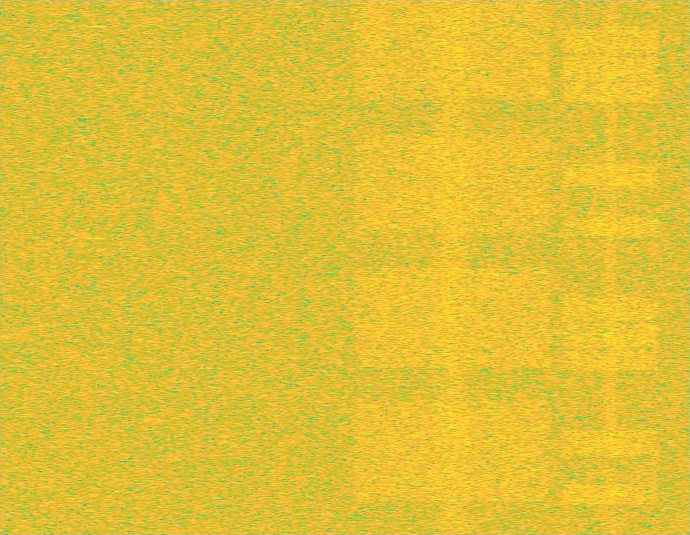5G: (349, 0, 556, 534)
DSSS: (429, 0, 476, 534), (604, 0, 618, 534)
LTE: (559, 0, 663, 534)
Radar: (88, 0, 102, 534)
